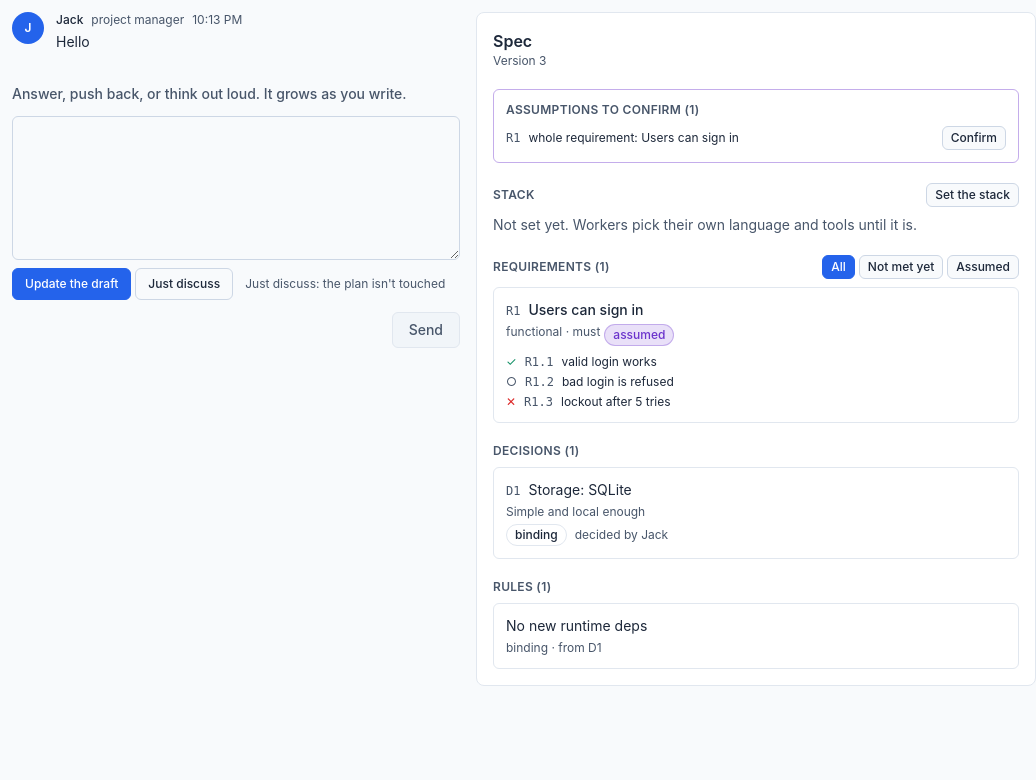
Test: PlanTab conversation › shows the server's detail on error and keeps the text
Type "my long answer" into the text box labelled "Answer, push back, or think out loud. It grows as you write." at (236, 188), box [12, 116, 460, 260]
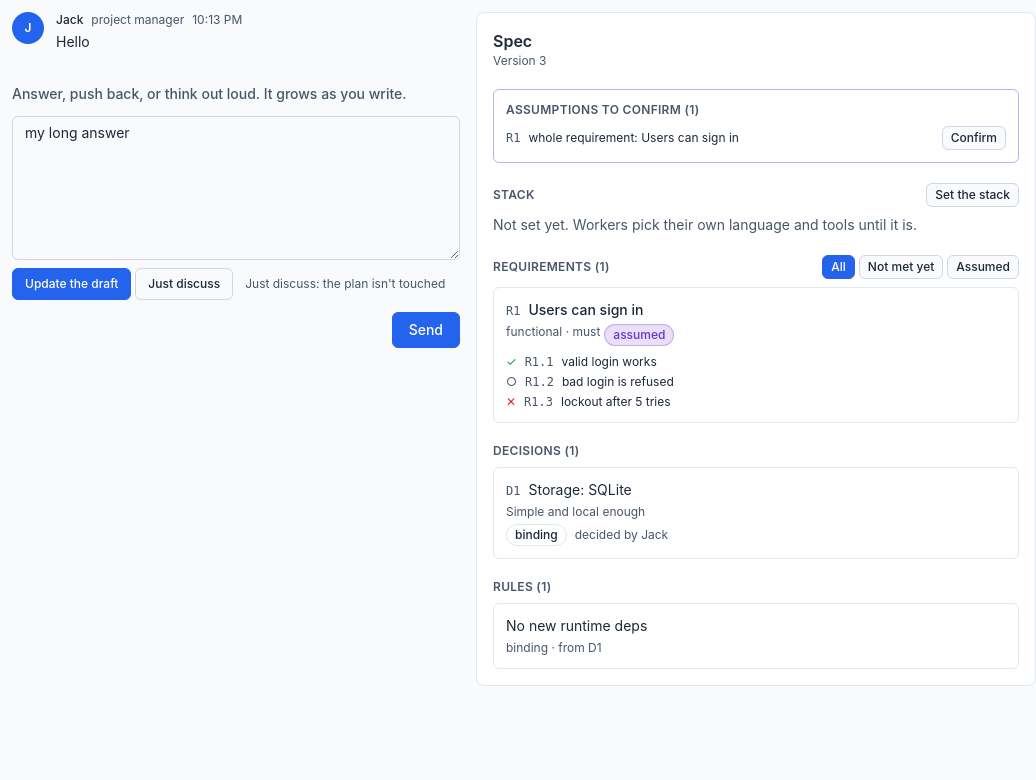
Click the button "Send" at (426, 330), box [392, 312, 460, 348]
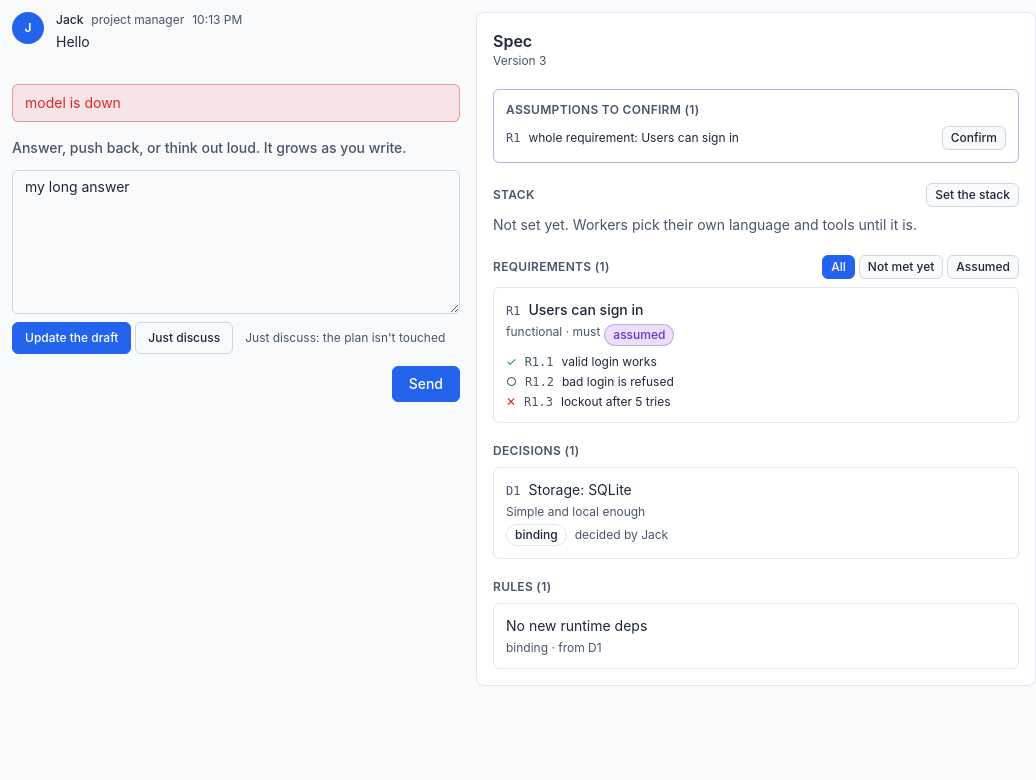
Expected: the message reads "model is down", [25, 94, 121, 111]
